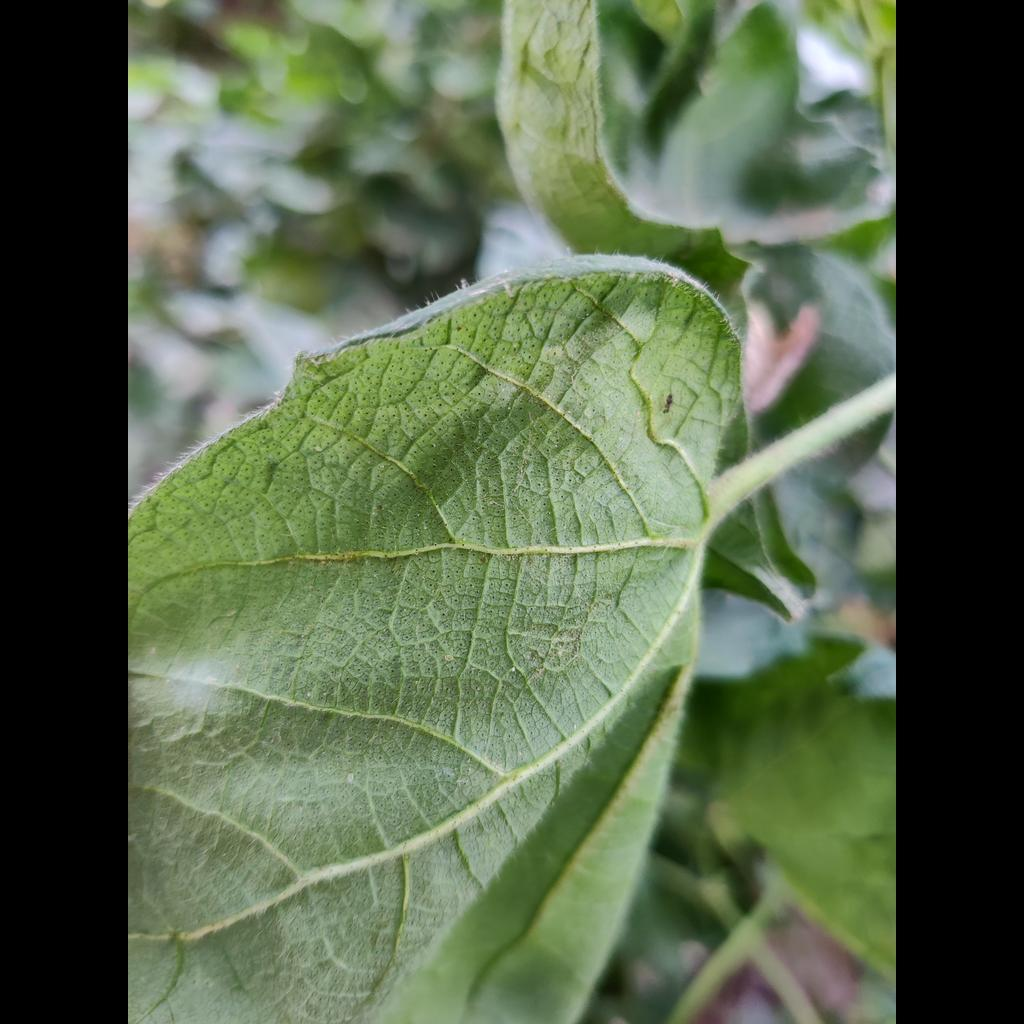nymph: (346, 772, 354, 783), (314, 444, 323, 453), (445, 655, 453, 661)
